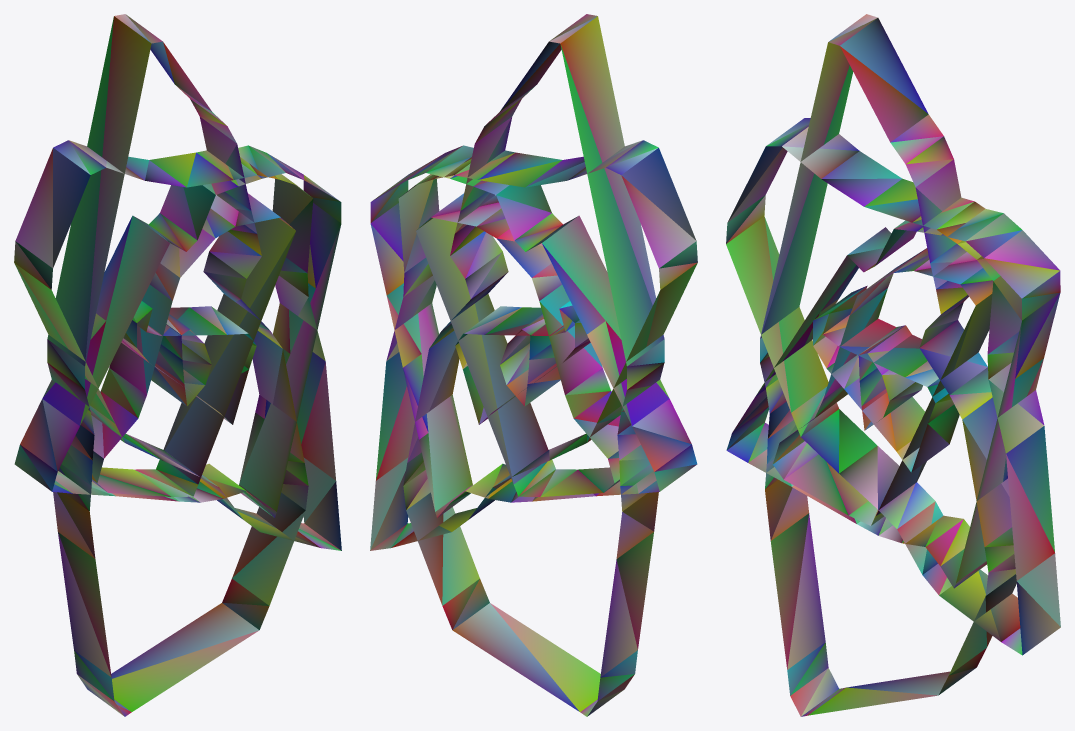
The model's file is TRSLips.fbx.
3 renders of one model, left to right at view 1: azimuth 30°, elevation 25°; view 2: azimuth 150°, elevation 25°; view 3: azimuth 330°, elevation 25°, orthographic. The views are drawn at different scales.
Parts seen in each view (by area): view 1: TRSLips; view 2: TRSLips; view 3: TRSLips.
Boxes of the visible parts, x1,y1,x2,y2 form: TRSLips: (14, 14, 341, 716); TRSLips: (370, 14, 697, 716); TRSLips: (726, 14, 1060, 716).
Bounding box in the file's own units: 0.3427 × 0.7526 × 0.077.
